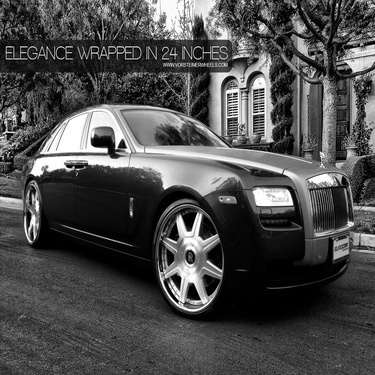car: (15, 97, 358, 328)
